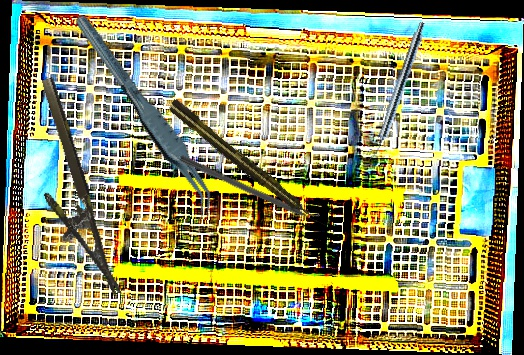Handpiece: (165, 96, 322, 228), (367, 19, 428, 164)
Needle Holder: (11, 76, 122, 306)
Pusher: (178, 154, 328, 231)
Tissue Forceps: (72, 0, 221, 229)
